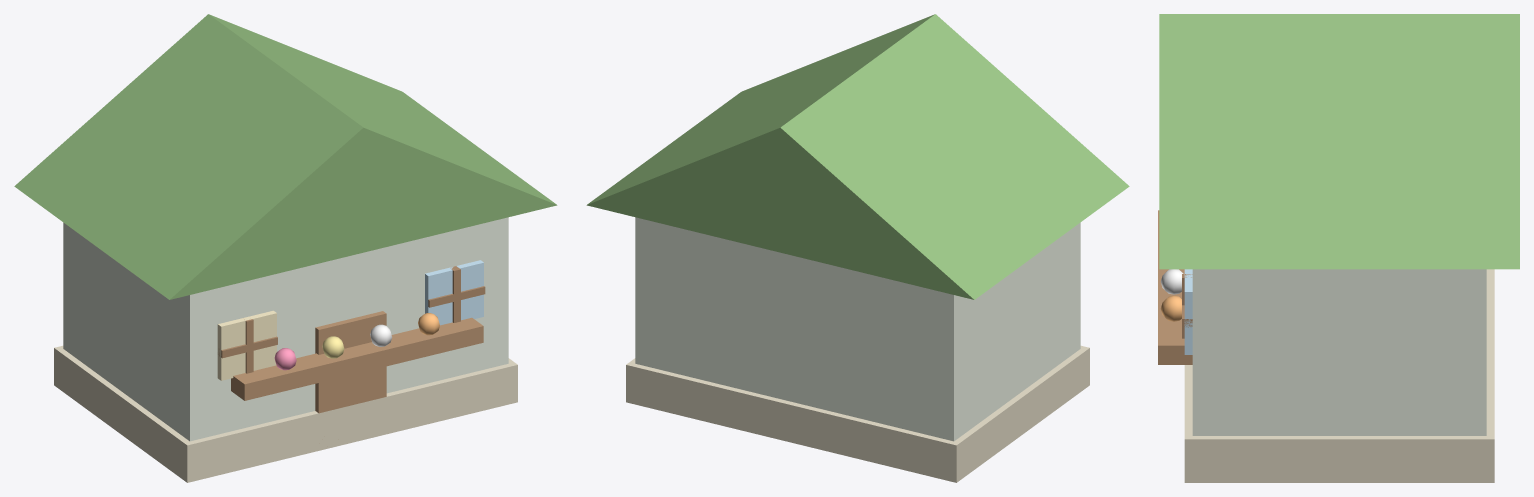
File: rumahw2.glb
The picture shows the model from 3 angles, left to right: view 1: azimuth 30°, elevation 25°; view 2: azimuth 150°, elevation 25°; view 3: azimuth 270°, elevation 25°; orthographic projection. The views are drawn at different scales.
Visible parts, largest first — view 1: rumahw2; view 2: rumahw2; view 3: rumahw2.
Part boxes in pixels (bbox=[...]): rumahw2: bbox=[14, 14, 557, 482]; rumahw2: bbox=[586, 14, 1129, 482]; rumahw2: bbox=[1158, 14, 1519, 482].
Bounding box in the file's own units: 1.95 × 1.55 × 1.36.
